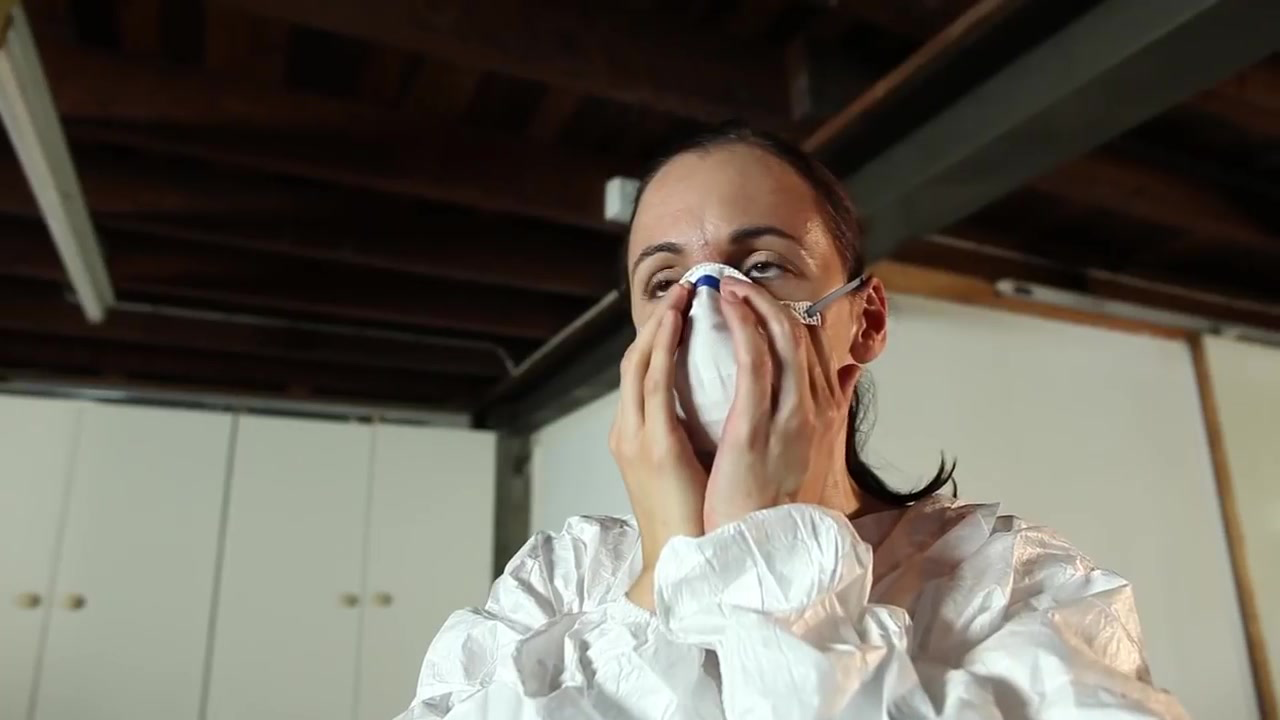Coverall: (435, 475, 1201, 720)
with_mask: (640, 268, 805, 468)
